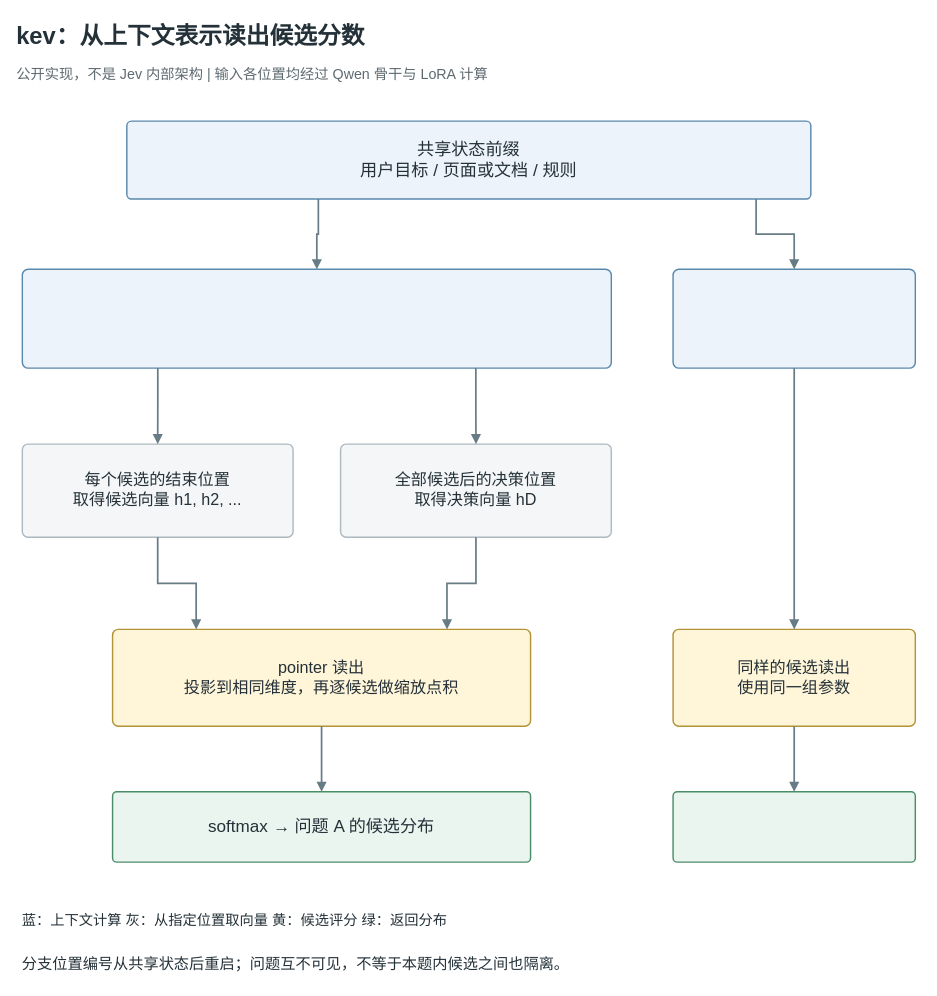
Some shapes in this 937 by 996 pixel diagram are drawn without their labels. Here are the shapes that lost their labels. From the top down, the centre of each, then its label:
pixel 316 318: 问题 A：说明 + 各候选文本 + 末尾决策位置 只读取共享状态与本题前文
pixel 794 318: 问题 B 分支 只读取共享状态 与本题前文
pixel 794 826: softmax 问题 B 的候选分布
